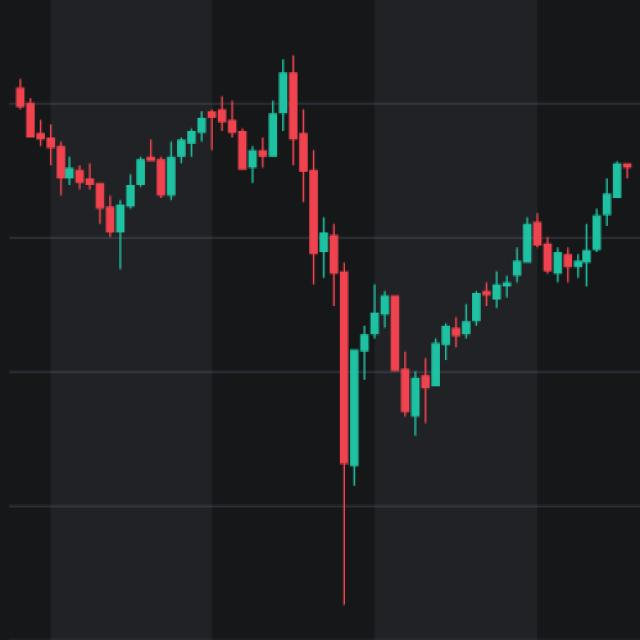Resistance-Emerging: (0, 271, 520, 640), (633, 437, 640, 451)
